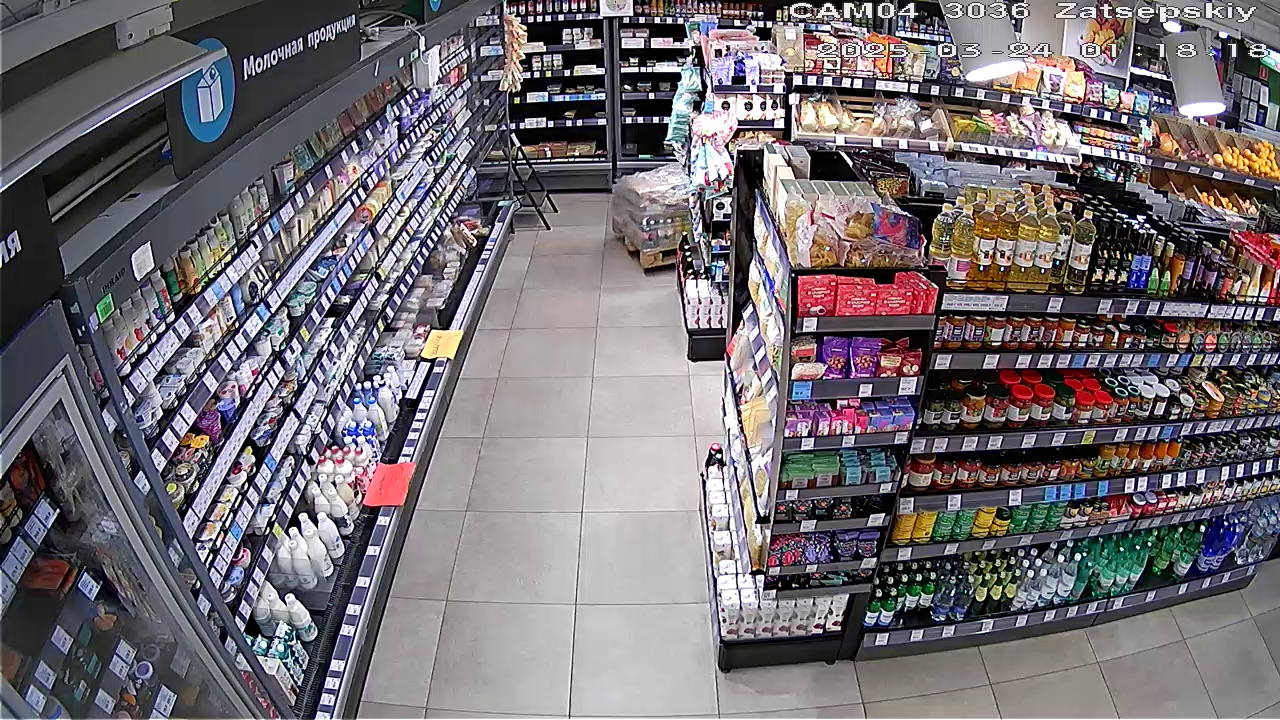pallet: (601, 150, 694, 270)
